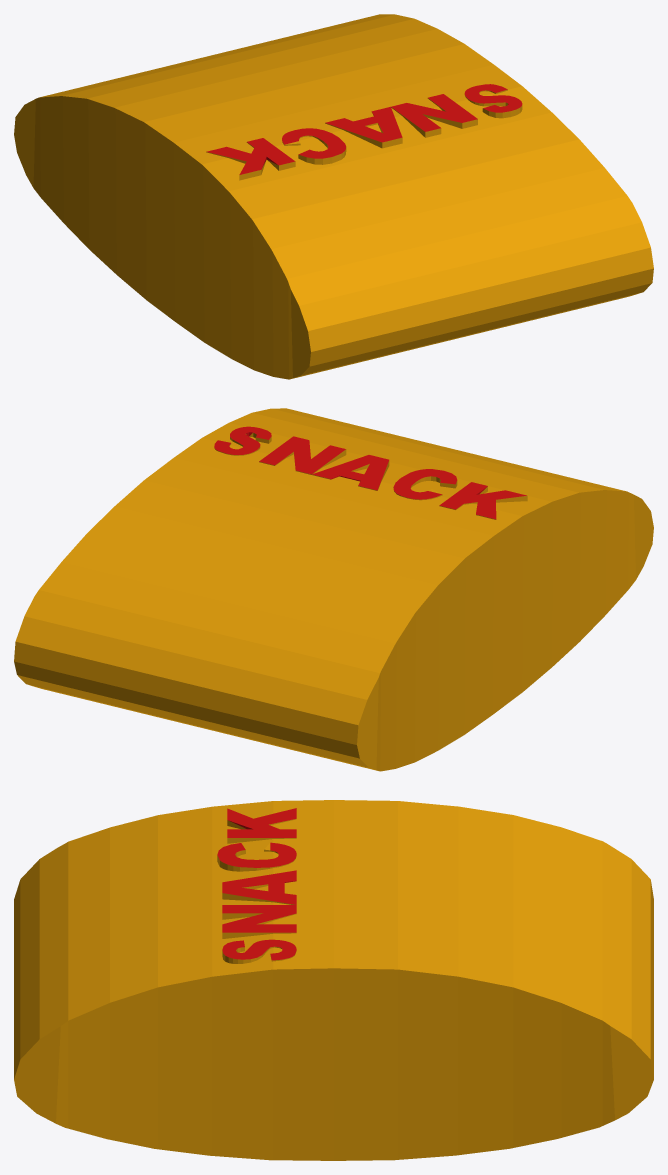
Rendered from snack_color2.fbx.
3 renders of one model, top to bottom at view 1: azimuth 30°, elevation 25°; view 2: azimuth 150°, elevation 25°; view 3: azimuth 270°, elevation 25°, orthographic. The views are drawn at different scales.
Visible parts, largest first — view 1: poteto; view 2: poteto; view 3: poteto.
Part boxes in pixels (x1=…): poteto: x1=14, y1=14, x2=653, y2=379; poteto: x1=14, y1=408, x2=653, y2=771; poteto: x1=14, y1=800, x2=653, y2=1160.
Bounding box in the file's own units: 1 × 0.5 × 1.5.
